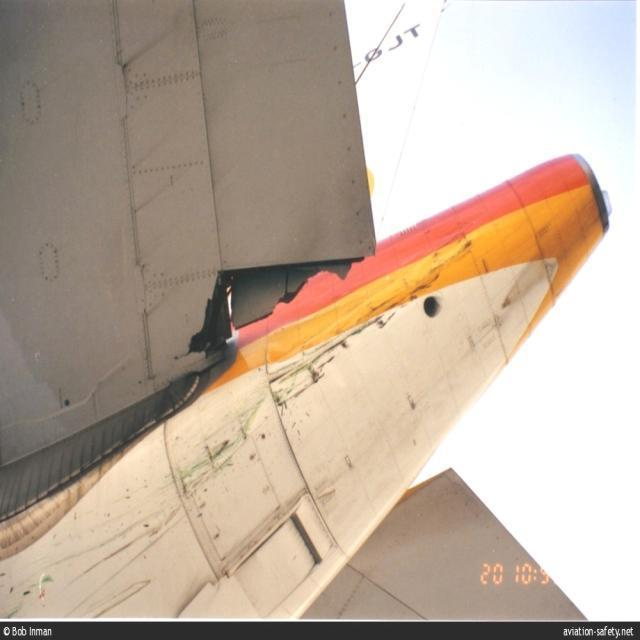crack: (174, 251, 372, 360), (190, 257, 364, 362)
